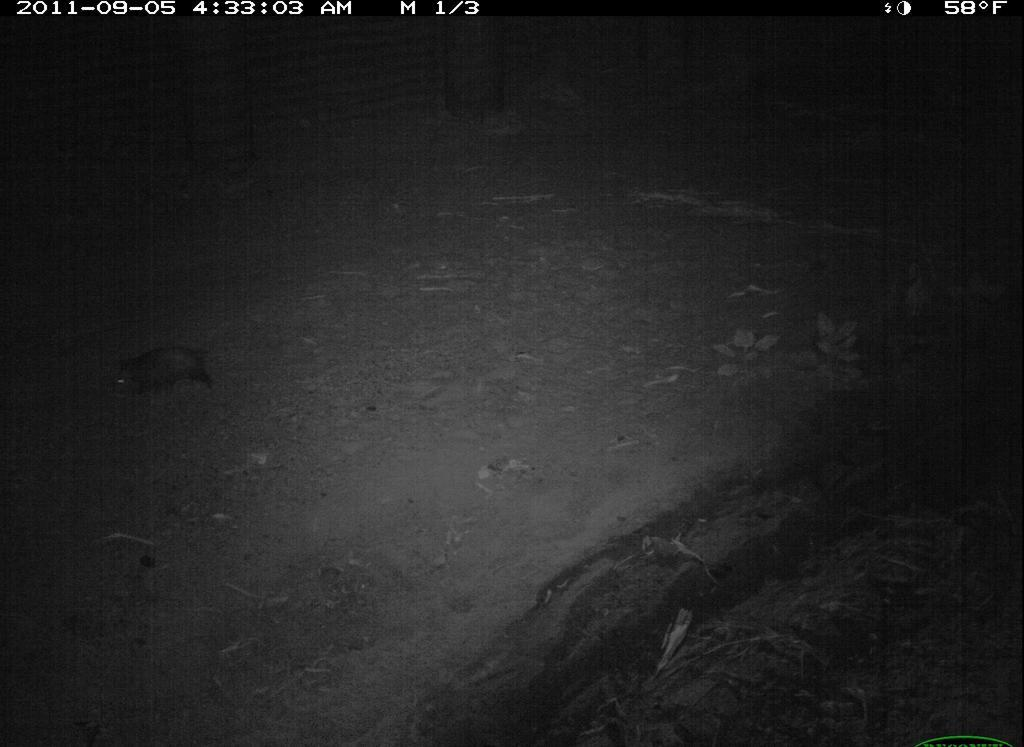opossum: (103, 336, 249, 409)
